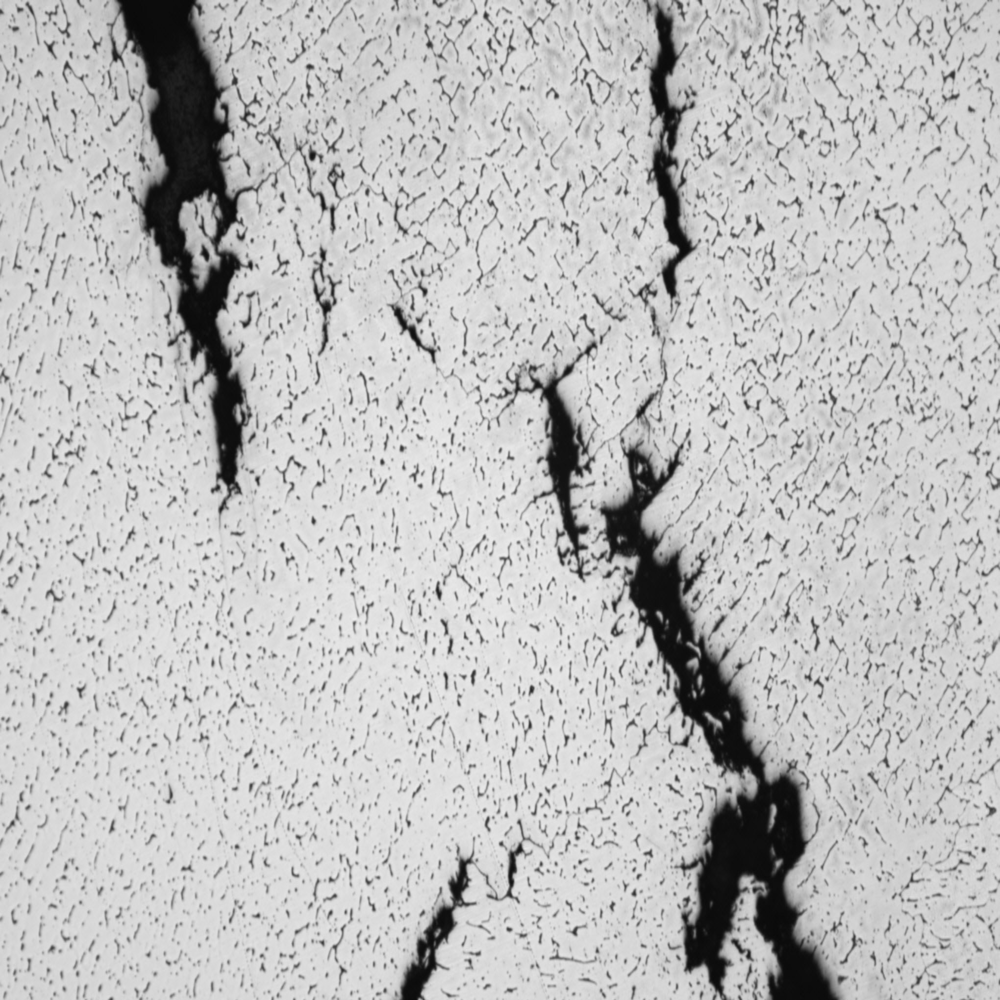crack: (506, 339, 861, 994), (109, 9, 301, 511), (391, 828, 535, 987), (634, 1, 703, 312)
